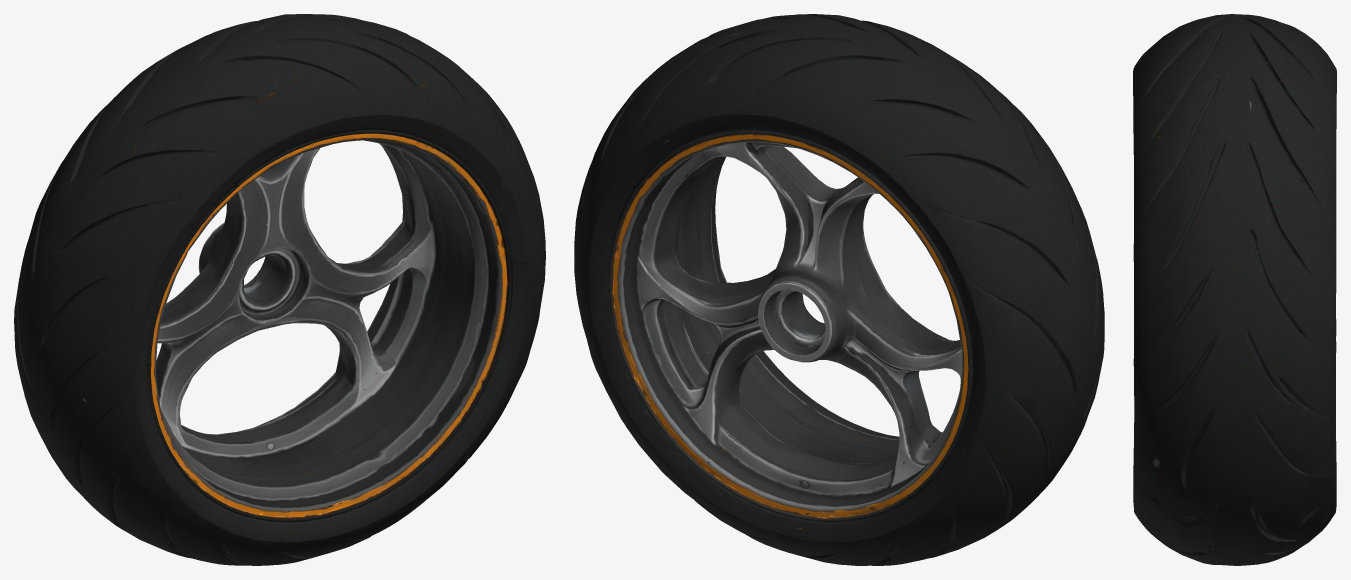
Rendered from Meshy_AI_Sport_Bike_Wheel_20261118_texture_41460tris.glb.
3 views of the same model, side by side, from view 1: azimuth 30°, elevation 25°; view 2: azimuth 150°, elevation 25°; view 3: azimuth 270°, elevation 25° (orthographic). The views are drawn at different scales.
Parts seen in each view (by area): view 1: Mesh_0; view 2: Mesh_0; view 3: Mesh_0.
Boxes of the visible parts, left/top/right/bottom form: Mesh_0: left=14, top=14, right=545, bottom=565; Mesh_0: left=574, top=14, right=1104, bottom=565; Mesh_0: left=1133, top=14, right=1336, bottom=565.
Bounding box in the file's own units: 190 × 190 × 70.32.
1 material, 1 textured.
